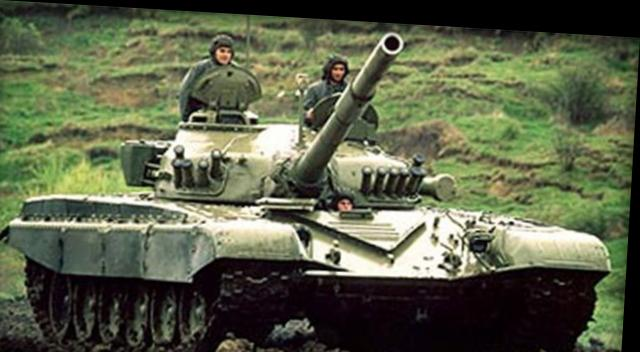other: (163, 15, 268, 108), (301, 18, 385, 128)
tank: (0, 101, 624, 350)
